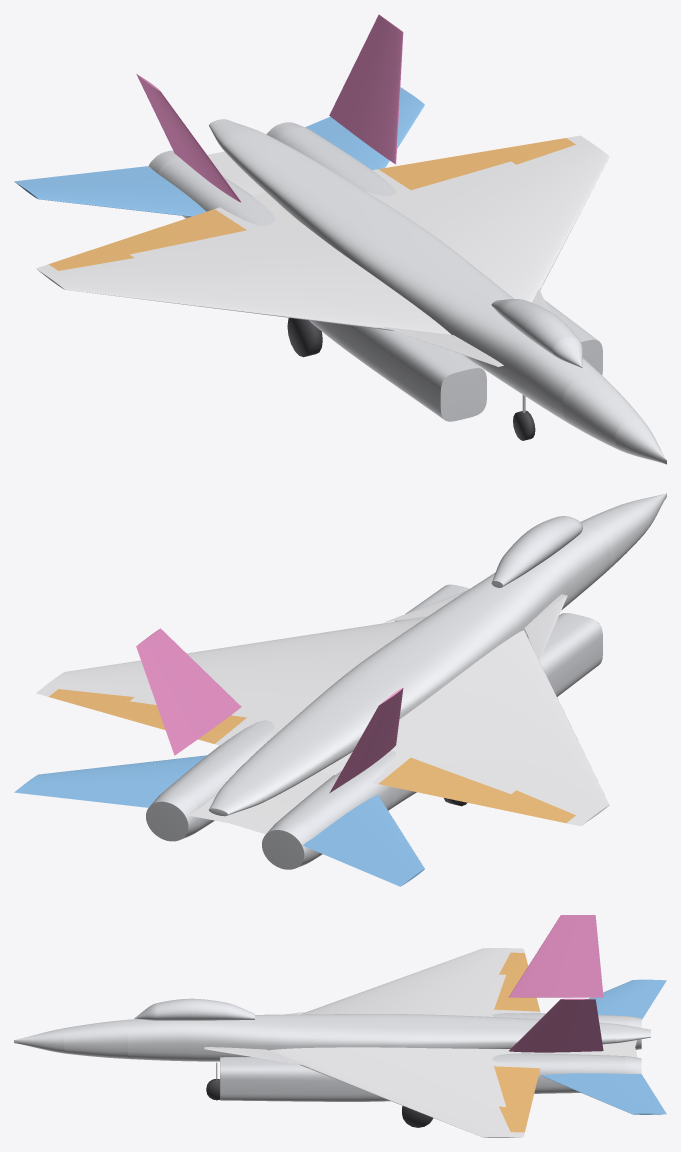
3 renders of one model, top to bottom at view 1: azimuth 30°, elevation 25°; view 2: azimuth 150°, elevation 25°; view 3: azimuth 270°, elevation 25°, orthographic. The views are drawn at different scales.
Parts seen in each view (by area): view 1: wing, fuselage, nacelle, fsim:rudder (×2), fsim:elevator+aileron:-0.3@-25,25, canopy, fsim:aileron+flaps:-1@-25,25, fsim:elevator+aileron:0.3@-25,25, fsim:aileron+flaps:1@-25,25, fsim:aileron (×2), levcon, Right Main Gear (+1 smaller); view 2: wing, fuselage, nacelle, fsim:rudder (×2), fsim:elevator+aileron:-0.3@-25,25, fsim:elevator+aileron:0.3@-25,25, fsim:aileron+flaps:-1@-25,25, canopy, htail, fsim:aileron (×2), levcon, fsim:aileron+flaps:1@-25,25; view 3: wing, fuselage, fsim:rudder (×2), nacelle, fsim:elevator+aileron:0.3@-25,25, canopy, fsim:elevator+aileron:-0.3@-25,25, fsim:aileron+flaps:1@-25,25, fsim:aileron (×2), fsim:aileron+flaps:-1@-25,25, levcon, htail (+1 smaller).
Part boxes in pixels (x1,y1,x2,y2): wing: [36, 135, 609, 334]; fuselage: [209, 119, 666, 464]; nacelle: [148, 122, 602, 421]; fsim:rudder (×2): [136, 14, 403, 202]; fsim:elevator+aileron:-0.3@-25,25: [14, 166, 206, 216]; canopy: [491, 299, 582, 367]; fsim:aileron+flaps:-1@-25,25: [113, 209, 246, 254]; fsim:elevator+aileron:0.3@-25,25: [305, 87, 424, 169]; fsim:aileron+flaps:1@-25,25: [378, 150, 510, 189]; fsim:aileron (×2): [48, 138, 575, 270]; levcon: [384, 289, 549, 366]; Right Main Gear: [287, 318, 322, 357]; wing: [36, 616, 609, 826]; fuselage: [209, 493, 666, 816]; nacelle: [146, 584, 602, 869]; fsim:rudder (×2): [136, 628, 403, 793]; fsim:elevator+aileron:-0.3@-25,25: [302, 795, 424, 886]; fsim:elevator+aileron:0.3@-25,25: [14, 755, 206, 807]; fsim:aileron+flaps:-1@-25,25: [378, 757, 510, 807]; canopy: [491, 516, 582, 587]; htail: [148, 772, 333, 845]; fsim:aileron (×2): [49, 689, 575, 823]; levcon: [384, 590, 567, 660]; fsim:aileron+flaps:1@-25,25: [112, 701, 246, 743]; wing: [269, 948, 543, 1137]; fuselage: [14, 1014, 650, 1061]; fsim:rudder (×2): [508, 915, 603, 1052]; nacelle: [220, 1013, 641, 1101]; fsim:elevator+aileron:0.3@-25,25: [541, 1073, 666, 1114]; canopy: [134, 998, 254, 1020]; fsim:elevator+aileron:-0.3@-25,25: [588, 979, 666, 1019]; fsim:aileron+flaps:1@-25,25: [494, 1066, 540, 1107]; fsim:aileron (×2): [499, 952, 530, 1132]; fsim:aileron+flaps:-1@-25,25: [494, 974, 540, 1011]; levcon: [204, 1012, 305, 1065]; htail: [544, 1040, 637, 1057].
Size of the model in its own units: 14.1 by 4.95 by 20.6.
